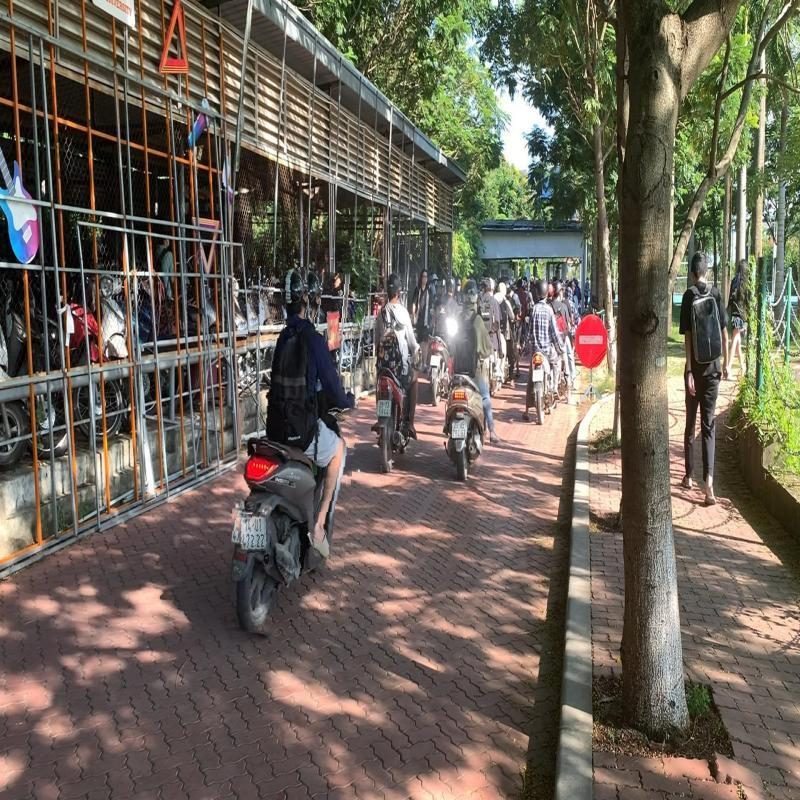helmet: (280, 268, 312, 320)
licenseplate: (237, 512, 270, 553)
motorcyclist: (230, 268, 362, 638)
